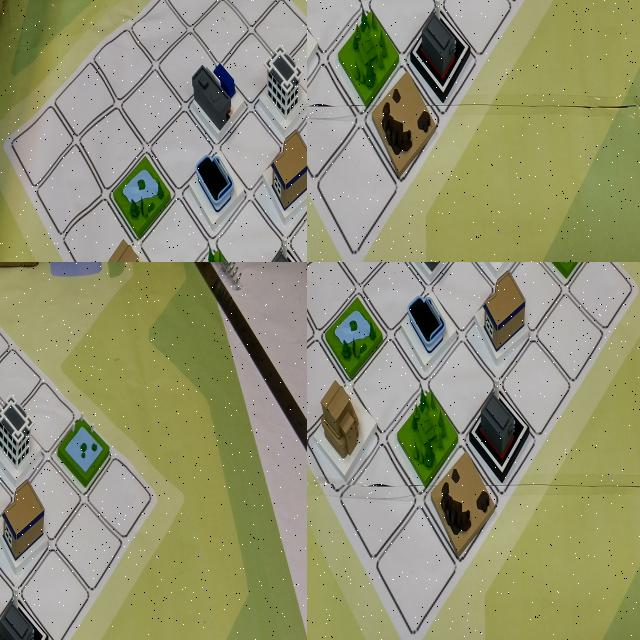bus_stop: (210, 87, 266, 181), (0, 518, 32, 615), (346, 0, 404, 53)
factory: (466, 371, 533, 488), (20, 488, 71, 580), (232, 0, 293, 49), (399, 262, 460, 308), (307, 184, 337, 262)
fish_pool: (43, 570, 100, 640), (533, 262, 596, 306), (465, 0, 520, 45)
forest: (393, 384, 463, 491), (494, 71, 548, 169), (0, 388, 25, 471)
gogo_shop: (396, 280, 458, 382), (121, 158, 177, 240), (355, 0, 409, 47), (0, 465, 27, 539)
research_build: (408, 0, 471, 51), (466, 262, 523, 306), (0, 354, 24, 444)
restaurant: (469, 269, 537, 376), (147, 0, 201, 87), (469, 0, 532, 51), (0, 543, 26, 640)
silicate_rock: (430, 441, 494, 556), (351, 163, 409, 262), (277, 180, 307, 262), (0, 513, 27, 601)
volunteer_center: (310, 378, 376, 482), (466, 162, 528, 257), (216, 186, 275, 262), (0, 389, 22, 469)
wet_land: (321, 288, 386, 384), (0, 371, 42, 449), (307, 129, 337, 224)
